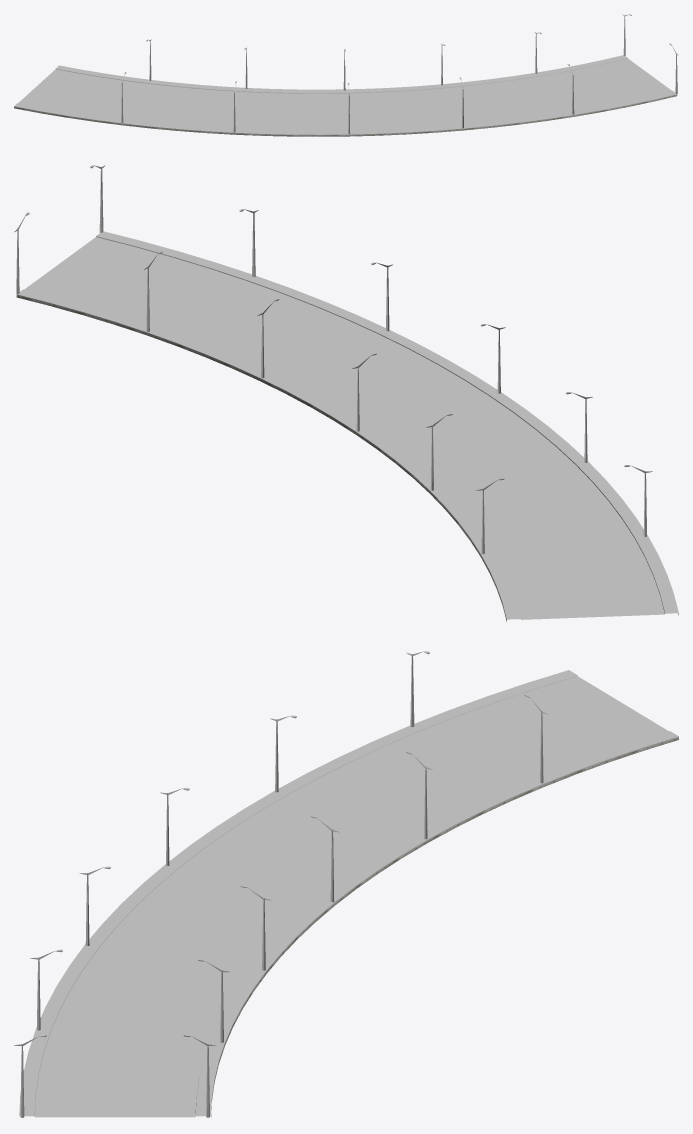
Rendered from Big_Road_55.FBX.
The picture shows the model from 3 angles, top to bottom: view 1: azimuth 30°, elevation 25°; view 2: azimuth 150°, elevation 25°; view 3: azimuth 270°, elevation 25°; orthographic projection. The views are drawn at different scales.
Parts seen in each view (by area): view 1: Big_Road_55, city_light010; view 2: Big_Road_55, city_light010; view 3: Big_Road_55, city_light010.
Part boxes in pixels (x1,y1,x2,y2): Big_Road_55: [14, 55, 677, 136]; city_light010: [121, 14, 678, 134]; Big_Road_55: [16, 231, 678, 621]; city_light010: [14, 165, 652, 553]; Big_Road_55: [19, 670, 678, 1117]; city_light010: [14, 651, 547, 1117].
Size of the model in its own units: 12509 by 1104 by 7864.
